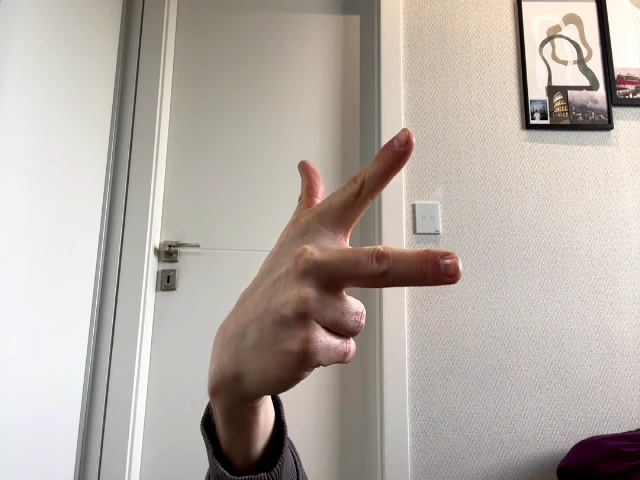K: (223, 129, 462, 379)
